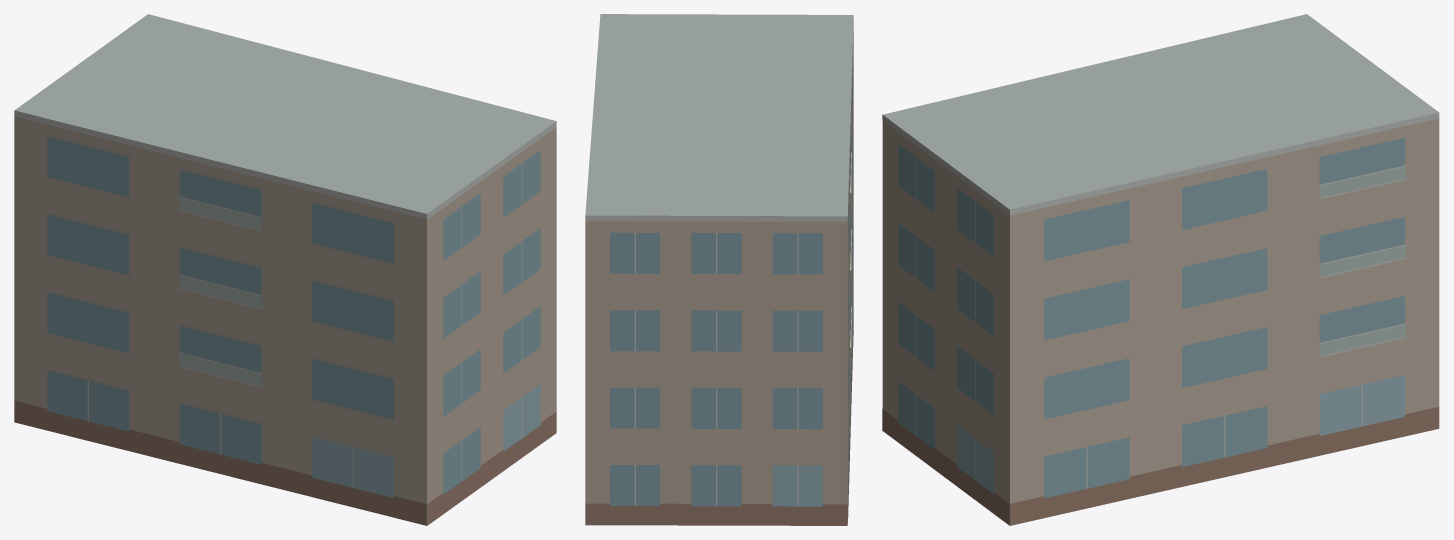
Rendered from survey-upis-32910329.glb.
The picture shows the model from 3 angles, left to right: view 1: azimuth 30°, elevation 25°; view 2: azimuth 150°, elevation 25°; view 3: azimuth 270°, elevation 25°; orthographic projection. The views are drawn at different scales.
Visible parts, largest first — view 1: survey-upis-32910329.tmp; view 2: survey-upis-32910329.tmp; view 3: survey-upis-32910329.tmp.
Boxes of the visible parts, left/top/right/bottom form: survey-upis-32910329.tmp: left=14, top=14, right=556, bottom=525; survey-upis-32910329.tmp: left=585, top=14, right=853, bottom=525; survey-upis-32910329.tmp: left=882, top=14, right=1439, bottom=525.
Size of the model in its own units: 17.27 by 13 by 20.76.
